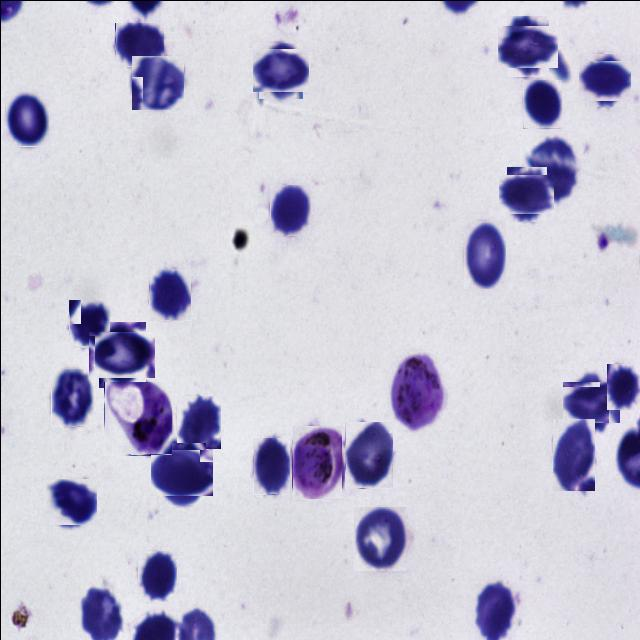difficult: (388, 354, 444, 432), (291, 425, 341, 499)
red blood cell: (353, 506, 405, 570), (344, 421, 392, 488), (94, 326, 150, 382), (552, 418, 594, 490), (130, 54, 184, 109), (154, 446, 208, 500), (463, 220, 505, 288), (501, 20, 553, 71), (256, 44, 306, 94), (566, 376, 616, 426), (50, 368, 93, 426), (4, 90, 48, 146), (46, 476, 94, 526), (176, 395, 220, 448), (580, 56, 628, 103), (502, 170, 550, 217), (148, 268, 190, 320), (114, 22, 163, 66), (269, 184, 310, 236), (252, 437, 289, 494), (137, 550, 176, 601), (68, 298, 109, 346), (522, 79, 561, 128), (606, 363, 640, 409)
schizont: (103, 380, 171, 454)
